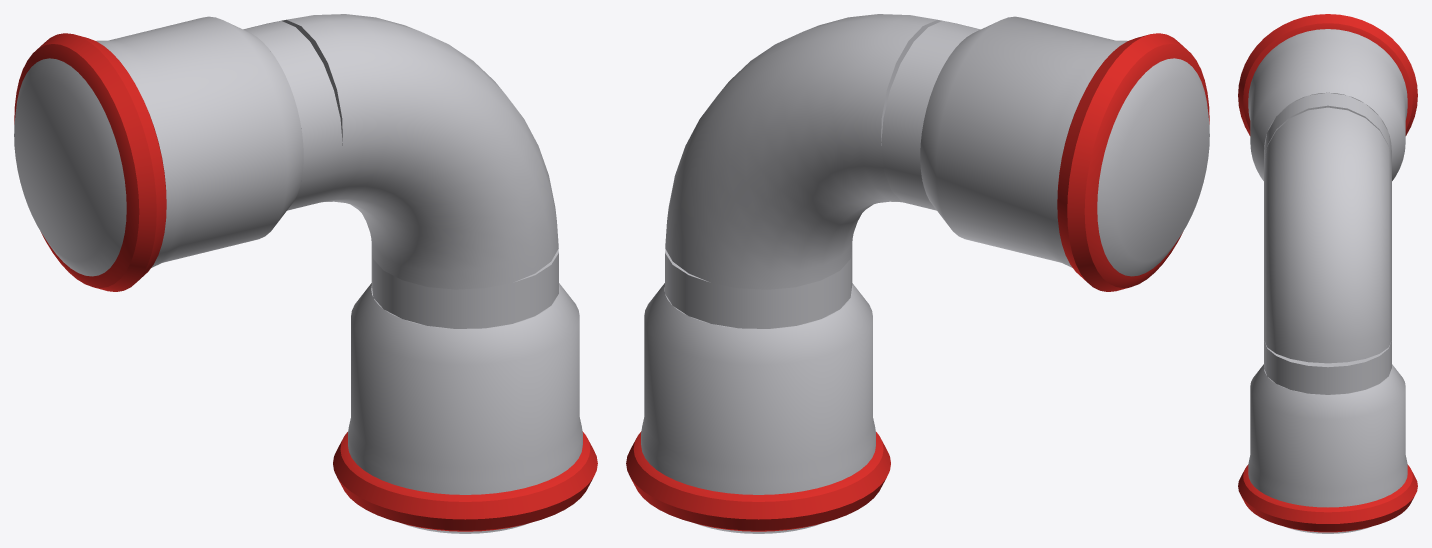
Rendered from fitting_e90_LD_r.glb.
The picture shows the model from 3 angles, left to right: view 1: azimuth 30°, elevation 25°; view 2: azimuth 150°, elevation 25°; view 3: azimuth 270°, elevation 25°; orthographic projection. The views are drawn at different scales.
Visible parts, largest first — view 1: раструб, изгиб, раструб.001, кольцо пресс, кольцо пресс.001, корпус.001, корпус; view 2: раструб, изгиб, раструб.001, кольцо пресс, кольцо пресс.001, корпус.001, корпус; view 3: изгиб, раструб.001, раструб, кольцо пресс.001, кольцо пресс, корпус.001, корпус.
Boxes of the visible parts, x1,y1,x2,y2 form: раструб: [14, 16, 303, 276]; изгиб: [281, 14, 558, 289]; раструб.001: [348, 283, 582, 533]; кольцо пресс: [14, 33, 166, 291]; кольцо пресс.001: [333, 431, 597, 531]; корпус.001: [371, 247, 558, 328]; корпус: [243, 21, 342, 210]; раструб: [920, 16, 1209, 276]; изгиб: [665, 14, 948, 289]; раструб.001: [641, 283, 875, 533]; кольцо пресс: [1057, 33, 1209, 291]; кольцо пресс.001: [626, 431, 890, 531]; корпус.001: [665, 247, 852, 328]; корпус: [881, 21, 980, 210]; изгиб: [1264, 107, 1391, 363]; раструб.001: [1248, 364, 1407, 533]; раструб: [1248, 29, 1407, 180]; кольцо пресс.001: [1238, 464, 1417, 532]; кольцо пресс: [1238, 14, 1417, 135]; корпус.001: [1264, 340, 1391, 394]; корпус: [1264, 92, 1391, 162].
Bounding box in the file's own units: 0.0796 × 0.0796 × 0.0352.
